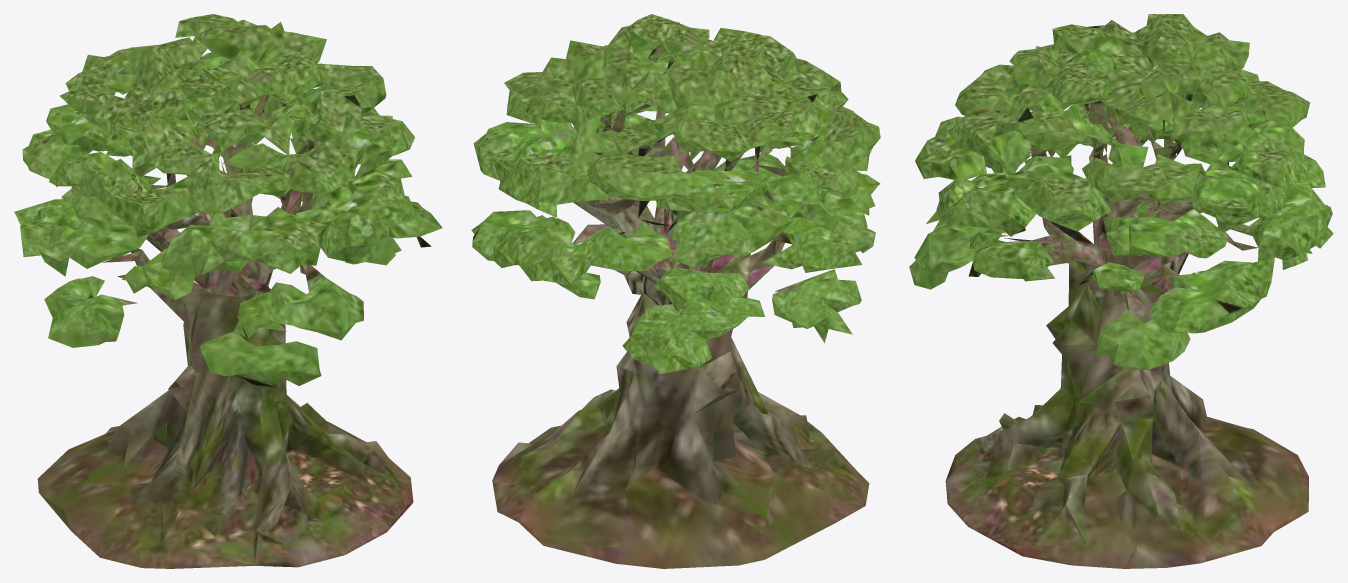
The model's file is tree-oak.glb.
3 views of the same model, side by side, from view 1: azimuth 30°, elevation 25°; view 2: azimuth 150°, elevation 25°; view 3: azimuth 270°, elevation 25° (orthographic).
Parts seen in each view (by area): view 1: Mesh_0; view 2: Mesh_0; view 3: Mesh_0.
Part boxes in pixels (x1,y1,x2,y2): Mesh_0: [14, 14, 442, 568]; Mesh_0: [471, 14, 880, 568]; Mesh_0: [909, 14, 1333, 568].
Size of the model in its own units: 1.62 by 1.87 by 1.62.
Materials: 1 (1 with a texture image).
